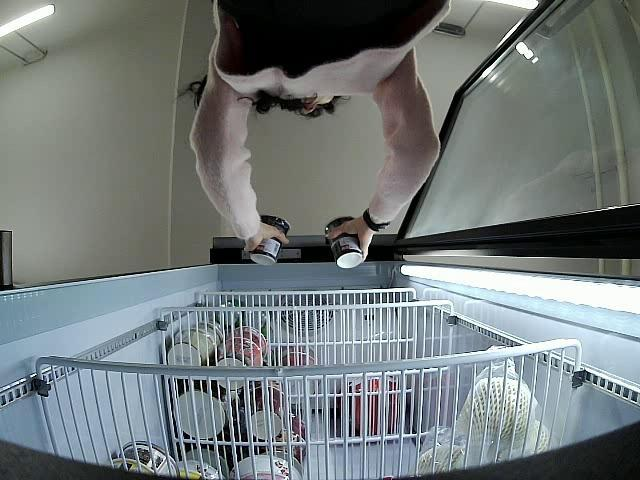08_buldak_S: (326, 215, 364, 270), (250, 215, 291, 264)
